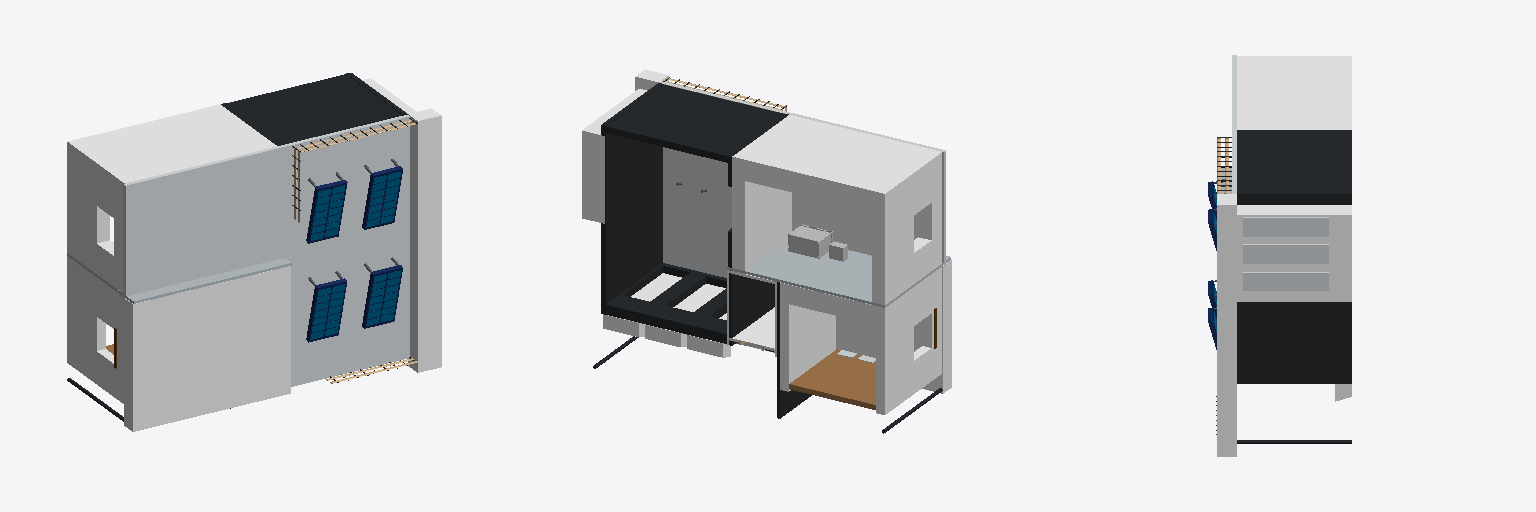
File: home.obj
3 views of the same model, side by side, from view 1: azimuth 30°, elevation 25°; view 2: azimuth 150°, elevation 25°; view 3: azimuth 270°, elevation 25° (orthographic).
Parts seen in each view (by area): view 1: obj_0; view 2: obj_0; view 3: obj_0.
Boxes of the visible parts, x1=… form: obj_0: x1=67, y1=73, x2=441, y2=431; obj_0: x1=582, y1=70, x2=951, y2=433; obj_0: x1=1208, y1=55, x2=1351, y2=456.
Size of the model in its own units: 36 by 28.04 by 14.44.